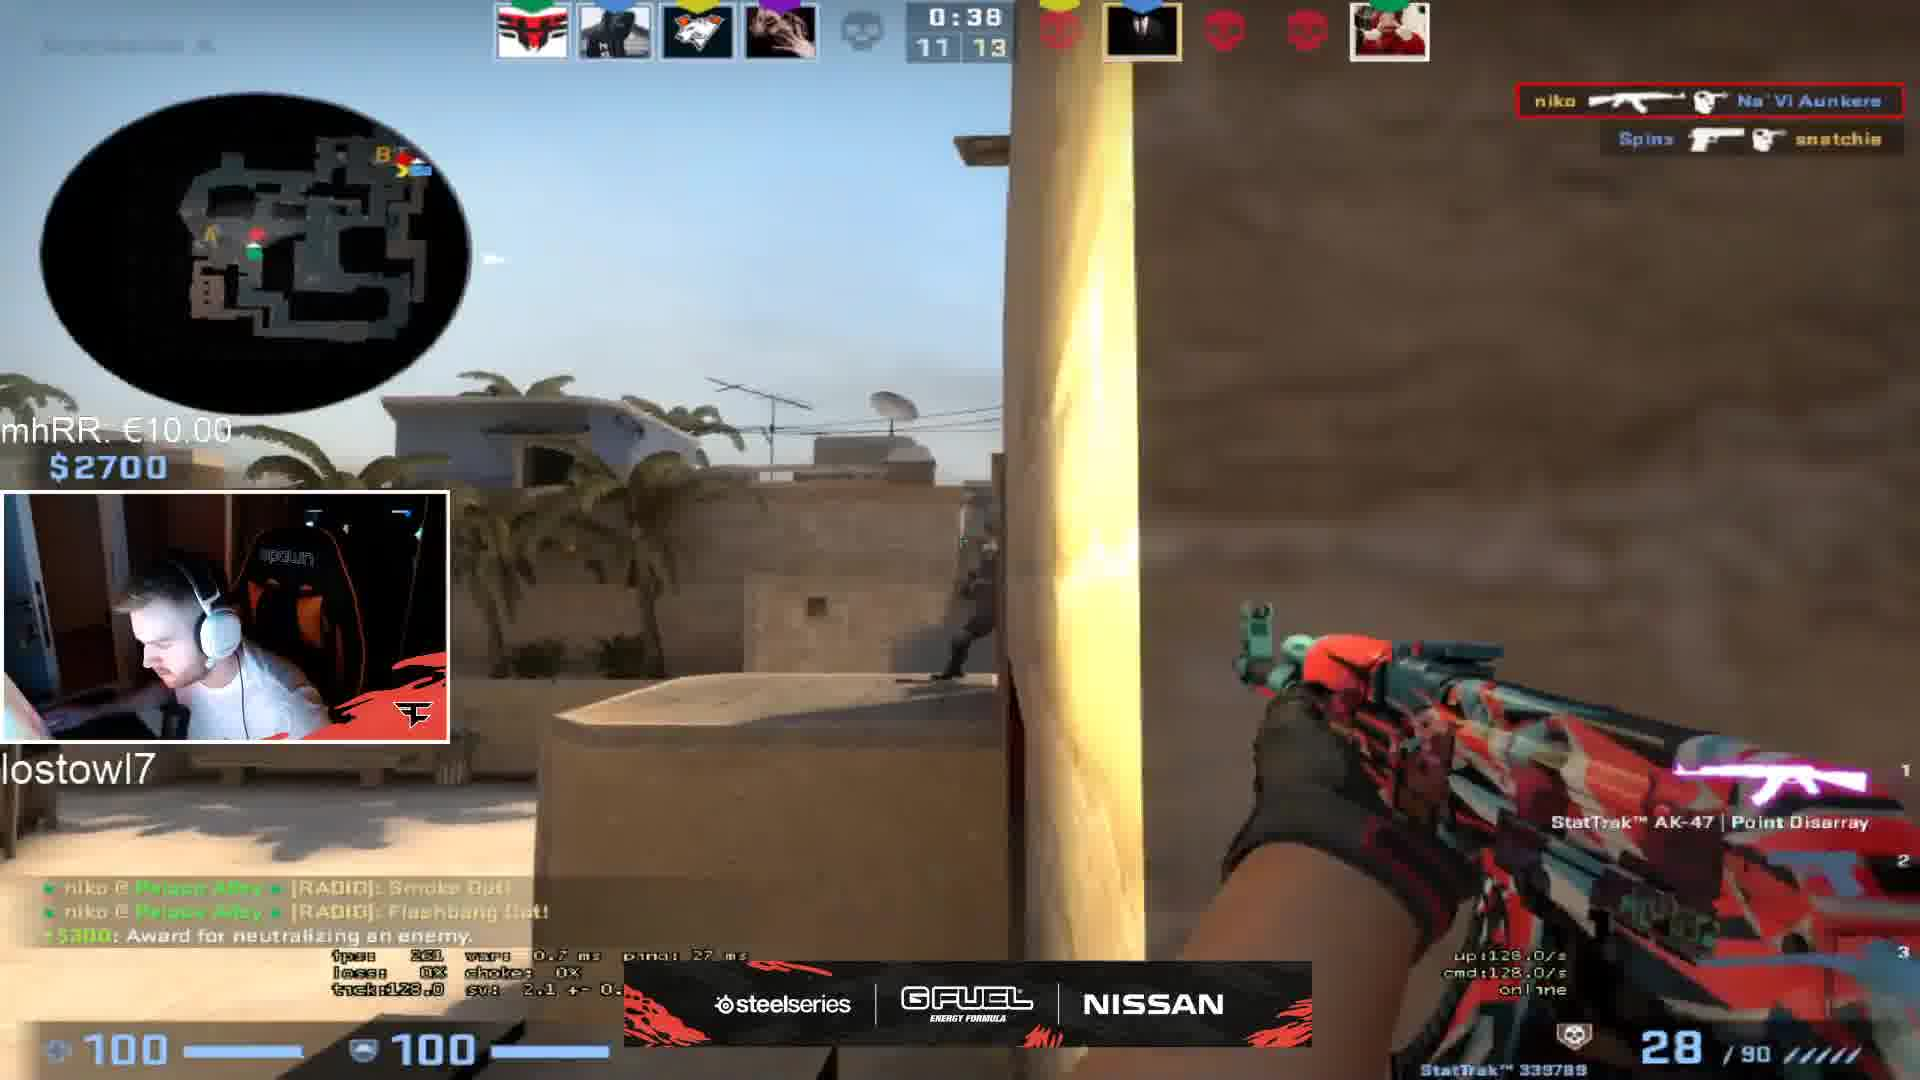enemy: (934, 542, 1004, 684)
